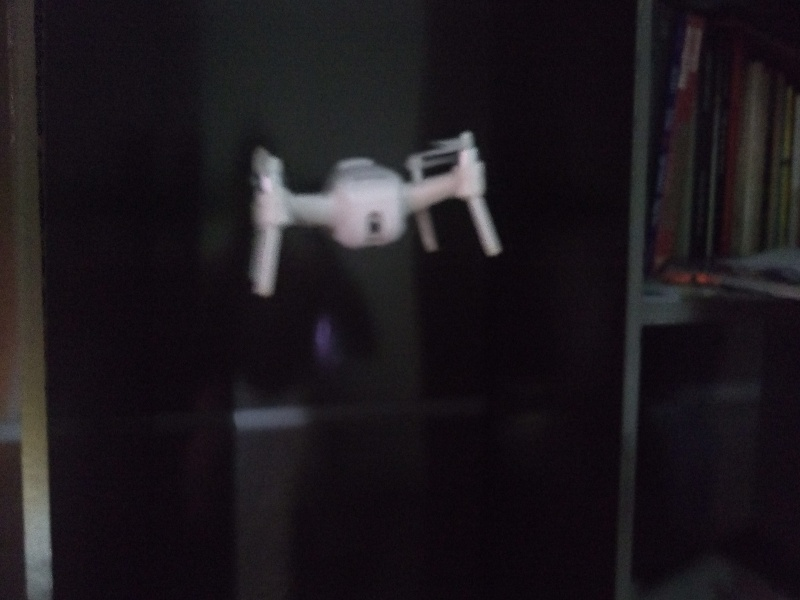drone: (228, 116, 513, 288)
